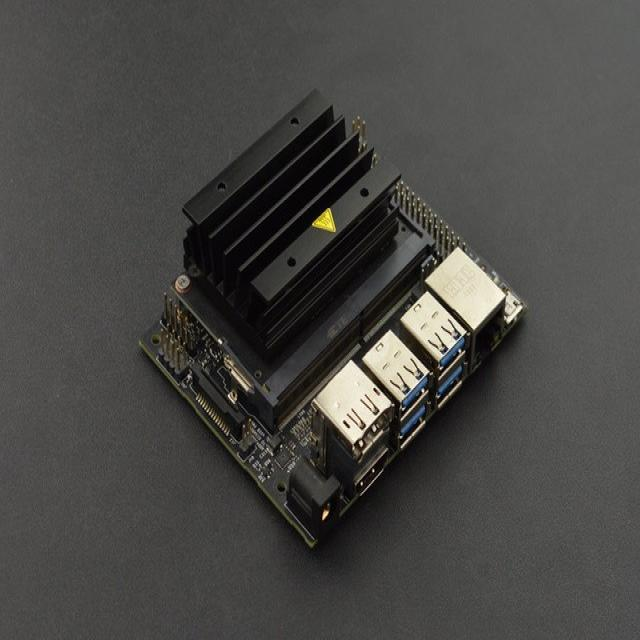Jetson Nano: (139, 88, 530, 548)
